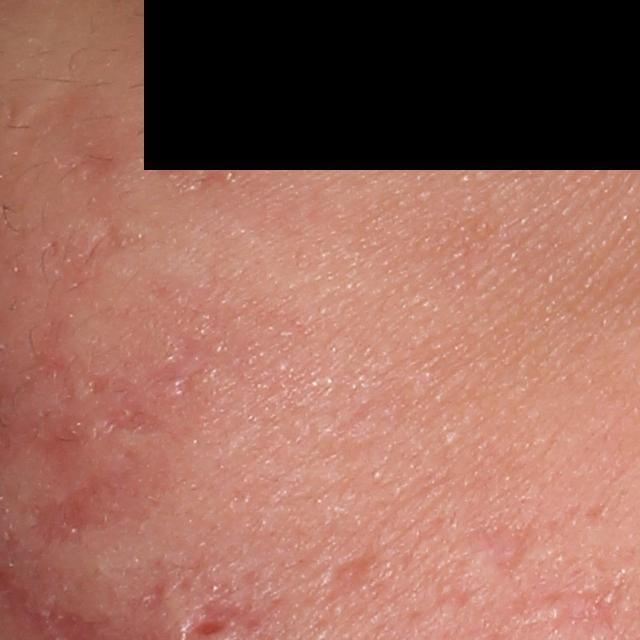atrophic_scar: (85, 371, 165, 444), (466, 521, 546, 574), (319, 549, 382, 611), (177, 616, 234, 640)
